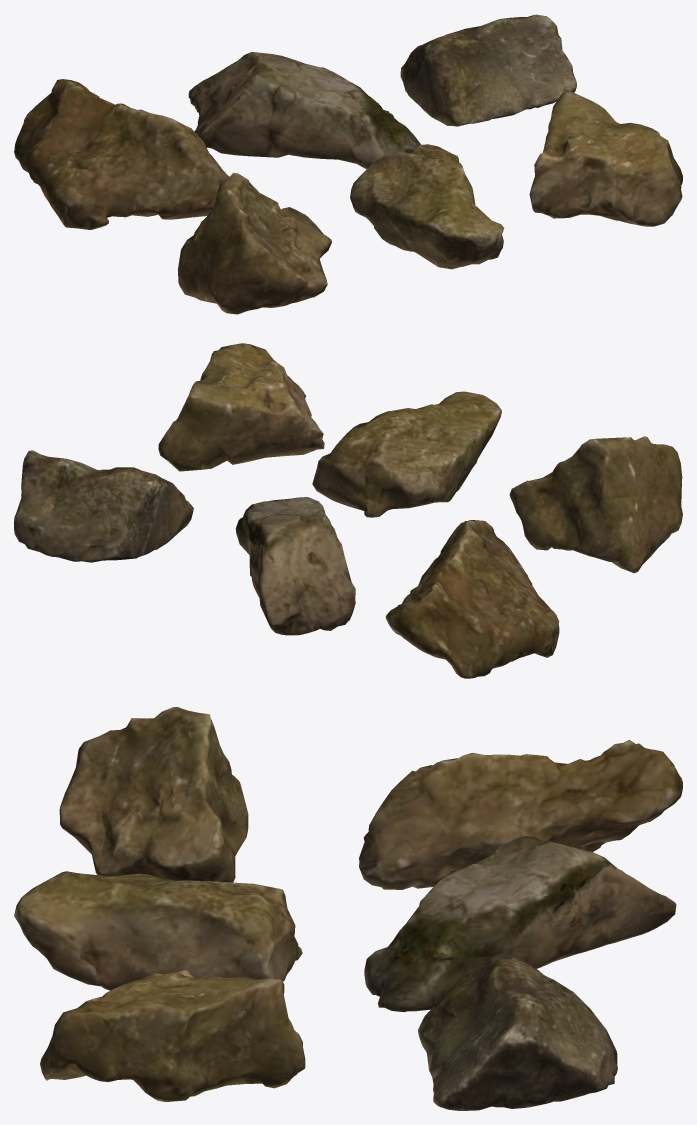
Rendered from rock_moss_set_01.glb.
3 views of the same model, one above another, from view 1: azimuth 30°, elevation 25°; view 2: azimuth 150°, elevation 25°; view 3: azimuth 270°, elevation 25° (orthographic). The views are drawn at different scales.
Parts seen in each view (by area): view 1: rock_moss_set_01_rock01; view 2: rock_moss_set_01_rock01; view 3: rock_moss_set_01_rock01.
Boxes of the visible parts, x1=… form: rock_moss_set_01_rock01: x1=14, y1=14, x2=682, y2=314; rock_moss_set_01_rock01: x1=14, y1=343, x2=682, y2=678; rock_moss_set_01_rock01: x1=14, y1=707, x2=682, y2=1110.
Size of the model in its own units: 8 by 1.76 by 6.94.
1 material, 1 textured.
